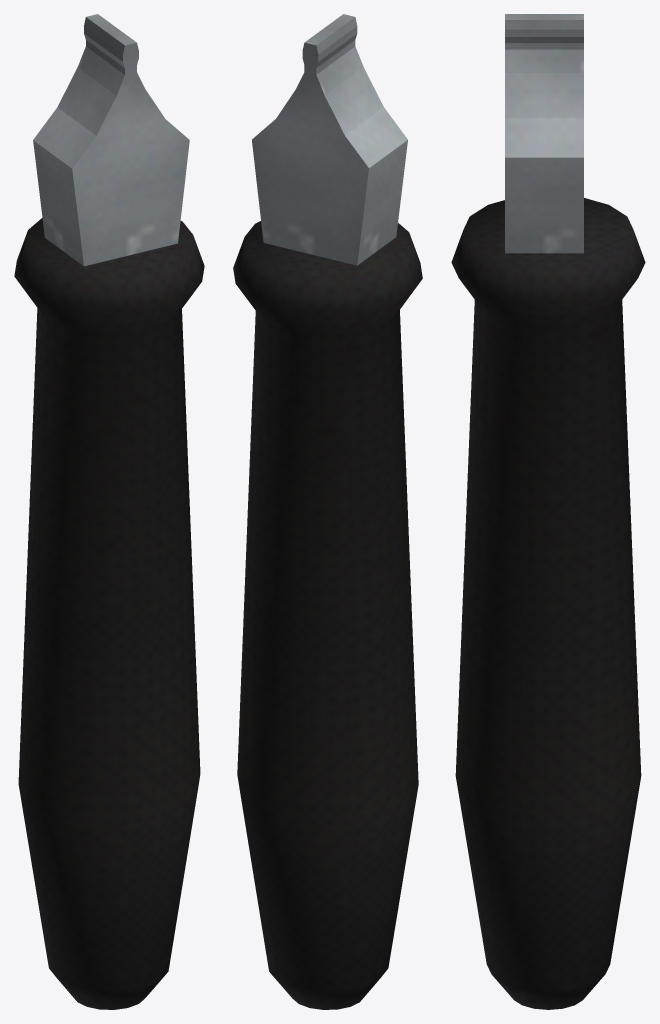
Rendered from Pen.fbx.
3 renders of one model, left to right at view 1: azimuth 30°, elevation 25°; view 2: azimuth 150°, elevation 25°; view 3: azimuth 270°, elevation 25°, orthographic.
Parts seen in each view (by area): view 1: Pen.001, Pen; view 2: Pen.001, Pen; view 3: Pen.001, Pen.
Part boxes in pixels (x1,y1,x2,y2): Pen.001: [14, 218, 204, 1009]; Pen: [33, 14, 189, 266]; Pen.001: [233, 221, 422, 1009]; Pen: [252, 14, 407, 265]; Pen.001: [451, 198, 645, 1009]; Pen: [505, 14, 583, 253].
Bounding box in the file's own units: 0.0245 × 0.1373 × 0.0245.
2 materials, 2 textured.
